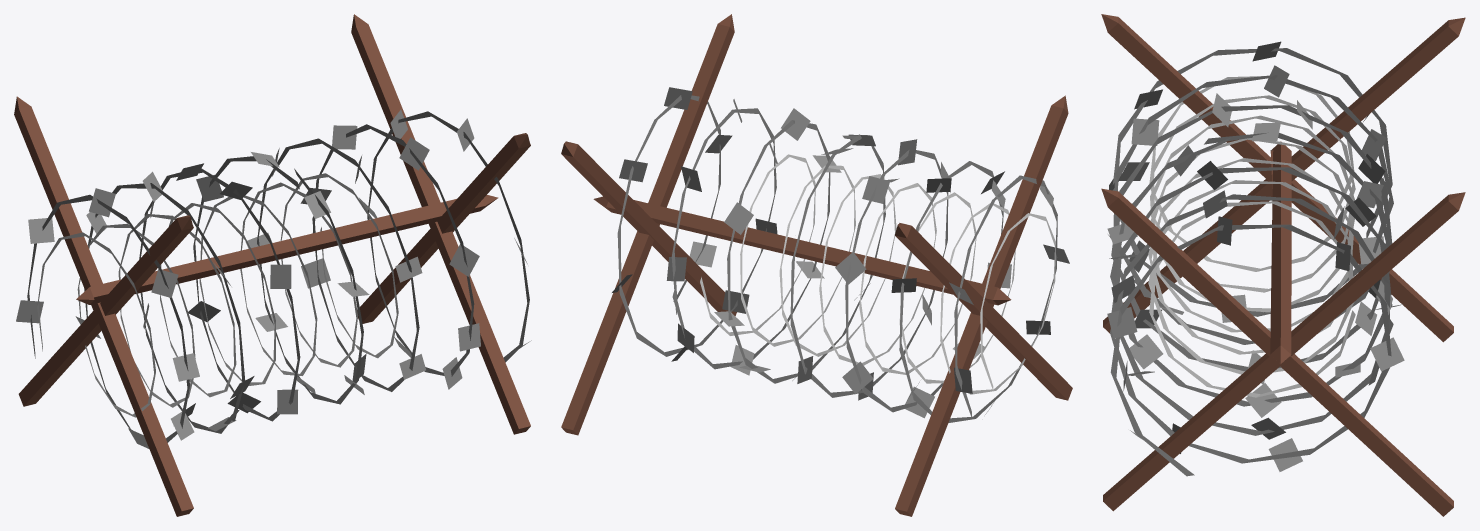
File: barbedWire.fbx
The picture shows the model from 3 angles, left to right: view 1: azimuth 30°, elevation 25°; view 2: azimuth 150°, elevation 25°; view 3: azimuth 270°, elevation 25°; orthographic projection. The views are drawn at different scales.
Parts seen in each view (by area): view 1: Cube.002, Plane.001; view 2: Cube.002, Plane.001; view 3: Cube.002, Plane.001.
Part boxes in pixels (<box>): Cube.002: <box>14,14,531,516</box>; Plane.001: <box>37,173,398,417</box>; Cube.002: <box>561,14,1072,516</box>; Plane.001: <box>700,154,1055,394</box>; Cube.002: <box>1101,14,1465,516</box>; Plane.001: <box>1148,76,1355,397</box>.
Bounding box in the file's own units: 222 × 150 × 152.
